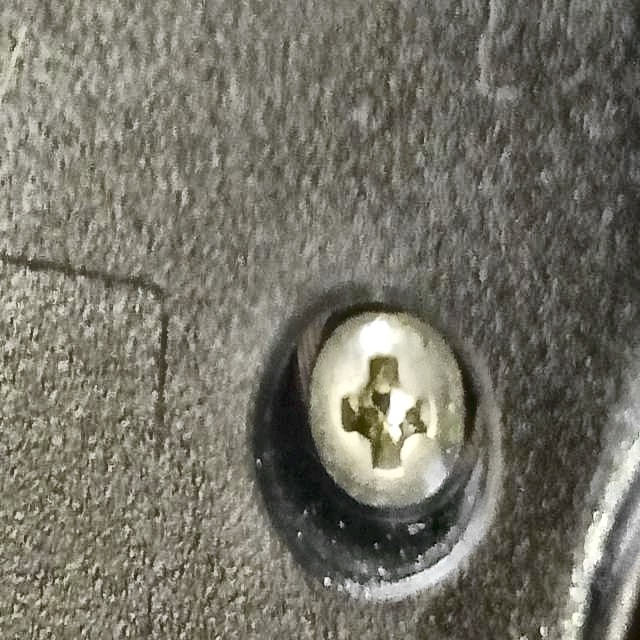phillips: (306, 308, 470, 515)
